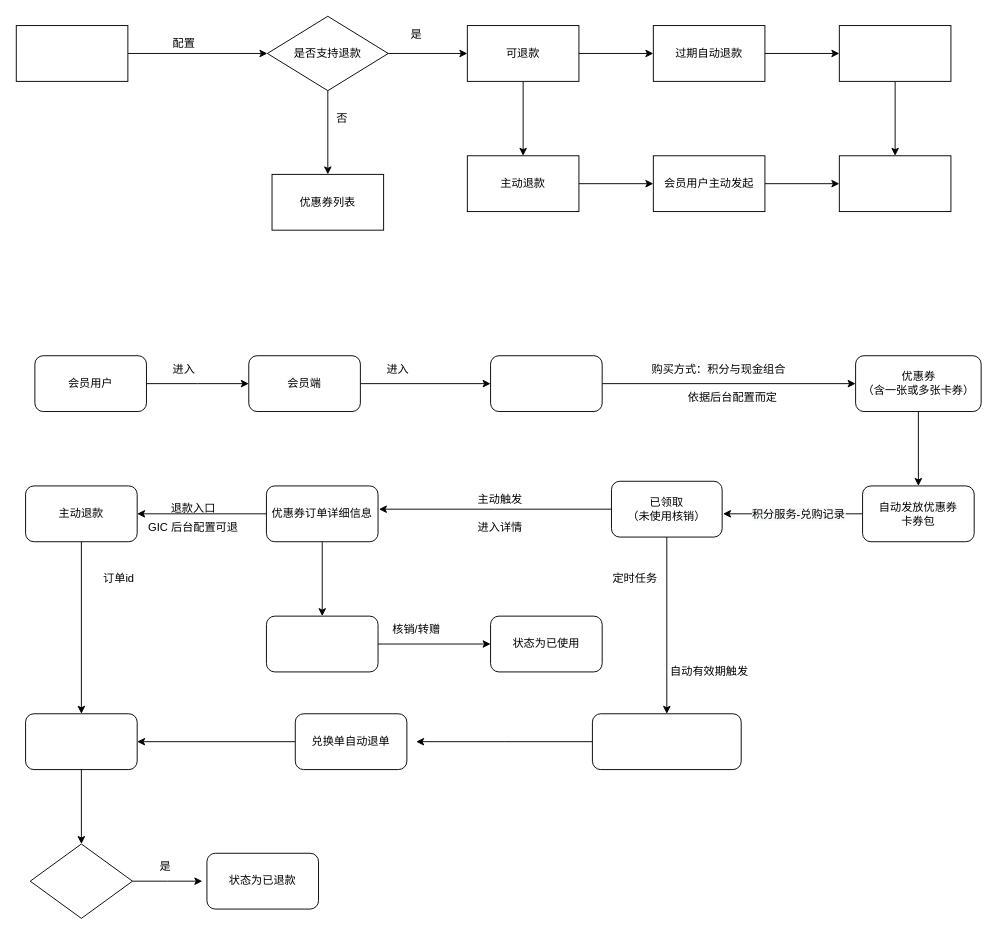
This 998x935 diagram has some shape labels left out. The centre of each missing label's shape, as x and y in pixels:
优惠券有效期过自动退: pixel 894 53
发起退款流程: pixel 81 741
是否退款成功: pixel 81 880
积分服务: pixel 546 383
积分购-优惠券: pixel 71 53
立即使用: pixel 322 643
符合退单条进 （券有效期>订单有效期）: pixel 666 741
退款列表: pixel 894 183
